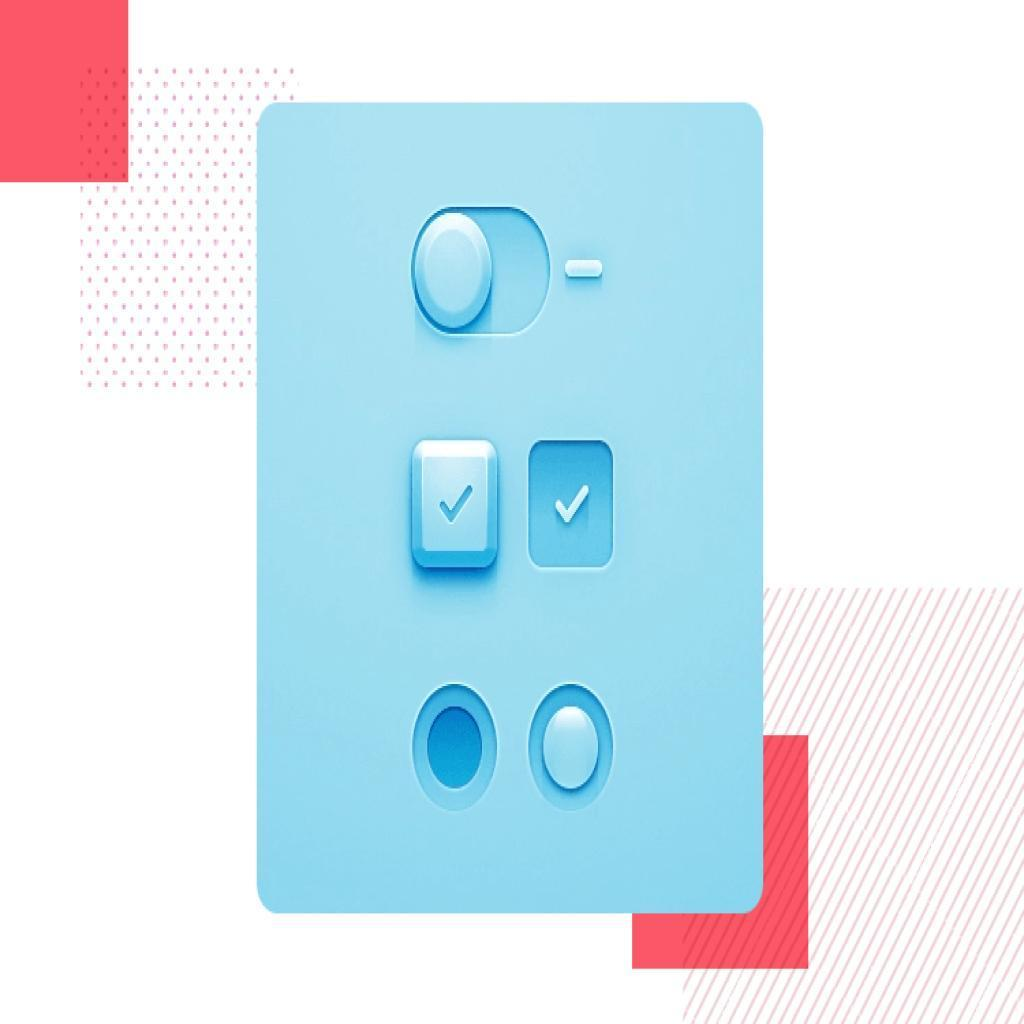checkbox: (411, 441, 502, 571), (528, 441, 615, 569)
radio: (527, 682, 615, 816), (411, 683, 501, 814)
switch: (414, 207, 552, 338)
